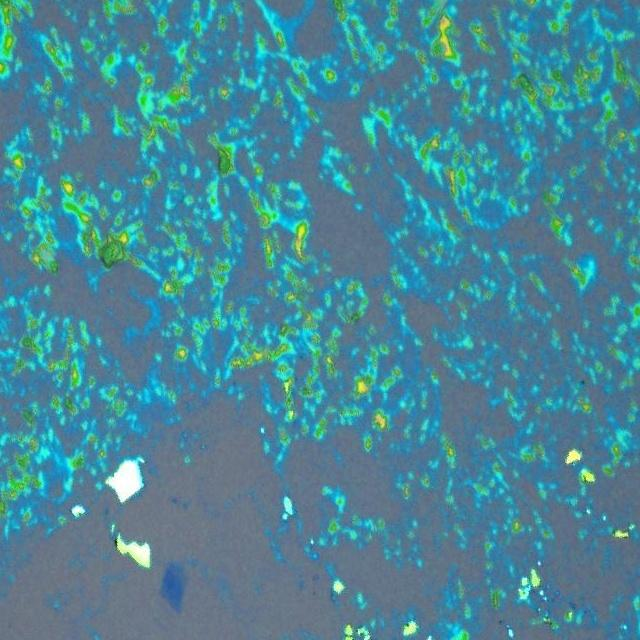monolayer-eWW4: (158, 559, 188, 615)
